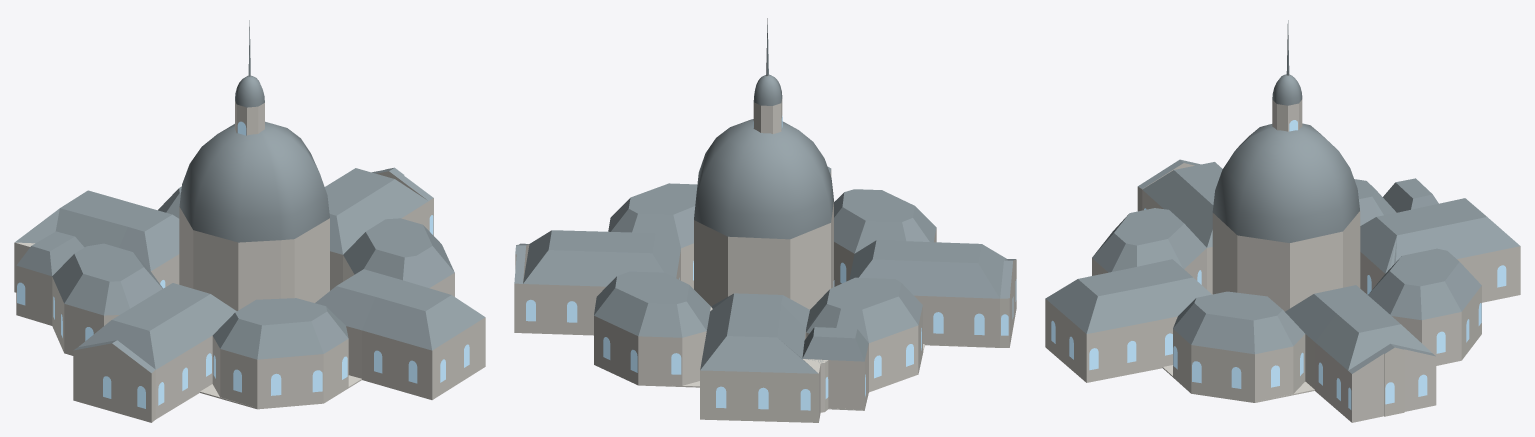
3 views of the same model, side by side, from view 1: azimuth 30°, elevation 25°; view 2: azimuth 150°, elevation 25°; view 3: azimuth 270°, elevation 25° (orthographic).
Visible parts, largest first — view 1: roof, stone, window; view 2: roof, stone, window; view 3: roof, stone, window.
Part boxes in pixels (<box>): roof: <box>15,20,484,372</box>; stone: <box>14,76,485,422</box>; window: <box>17,121,469,408</box>; roof: <box>514,18,1015,373</box>; stone: <box>514,75,1016,422</box>; window: <box>526,116,1016,410</box>; roof: <box>1045,20,1520,373</box>; stone: <box>1045,75,1520,422</box>; window: <box>1051,120,1506,409</box>.
Size of the model in its own units: 72.01 by 50 by 70.59.
